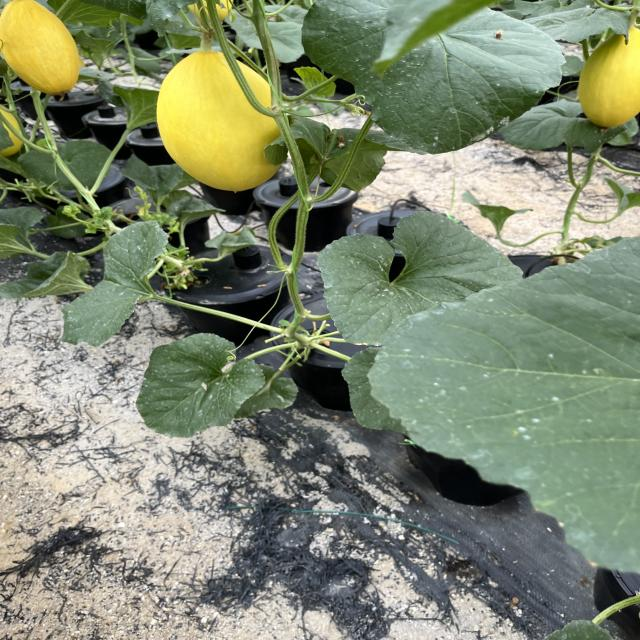powdery mildew: (375, 234, 640, 575), (320, 212, 526, 337), (127, 339, 276, 440), (54, 226, 172, 353)
